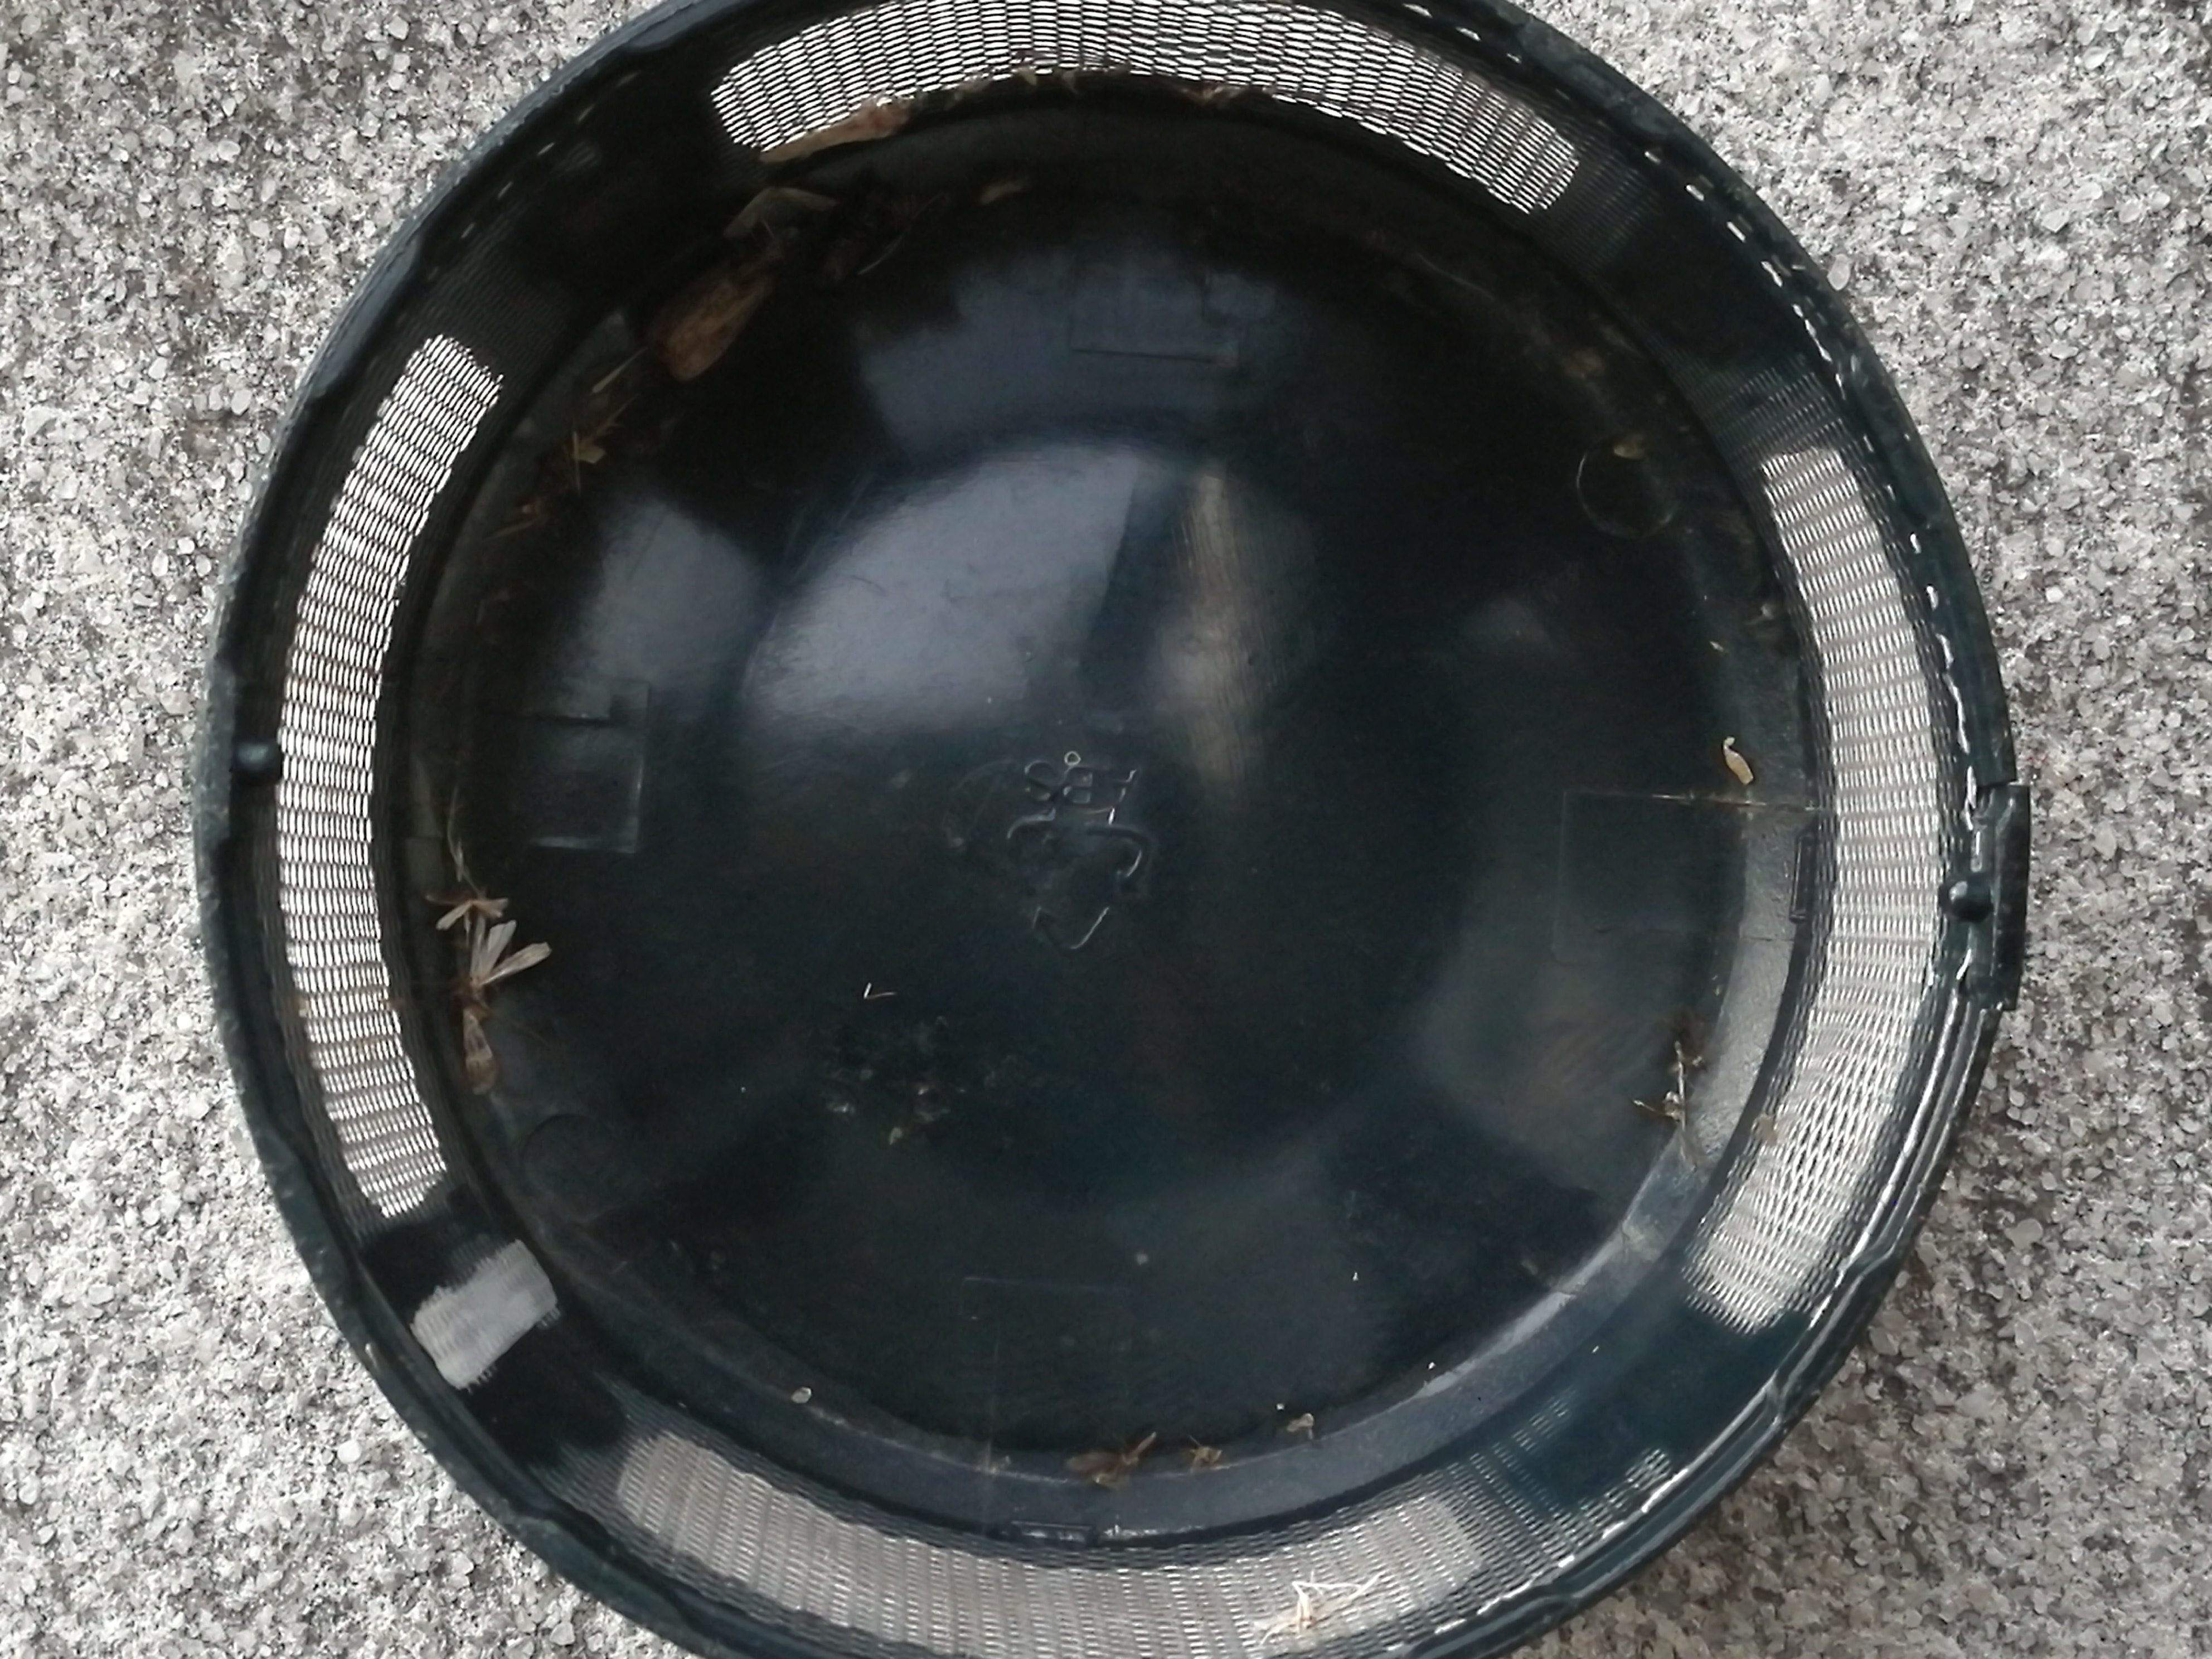mosquito: (758, 105, 904, 166)
moth: (646, 225, 787, 382), (456, 915, 547, 1094), (725, 185, 838, 234)
